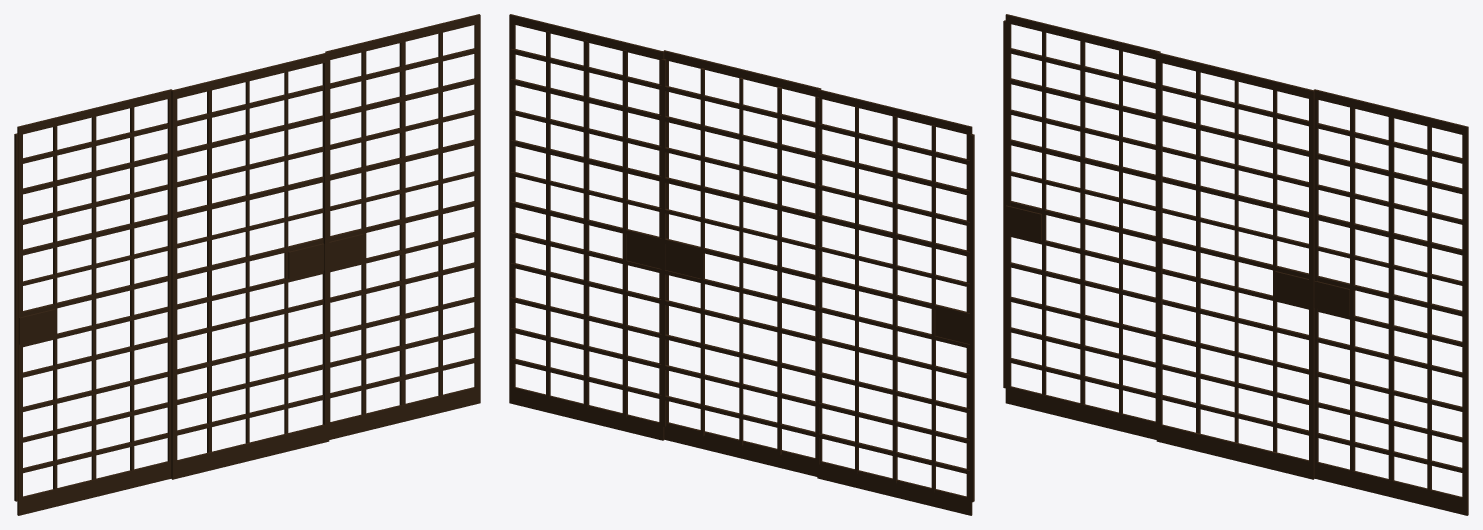
3 views of the same model, side by side, from view 1: azimuth 30°, elevation 25°; view 2: azimuth 150°, elevation 25°; view 3: azimuth 330°, elevation 25° (orthographic).
Visible parts, largest first — view 1: Room; view 2: Room; view 3: Room.
Part boxes in pixels (x1,y1,x2,y2): Room: (14, 14, 480, 515); Room: (509, 14, 974, 515); Room: (1003, 14, 1468, 515).
Bounding box in the file's own units: 20.65 × 16.51 × 0.2427.
Materials: 1 (1 with a texture image).
